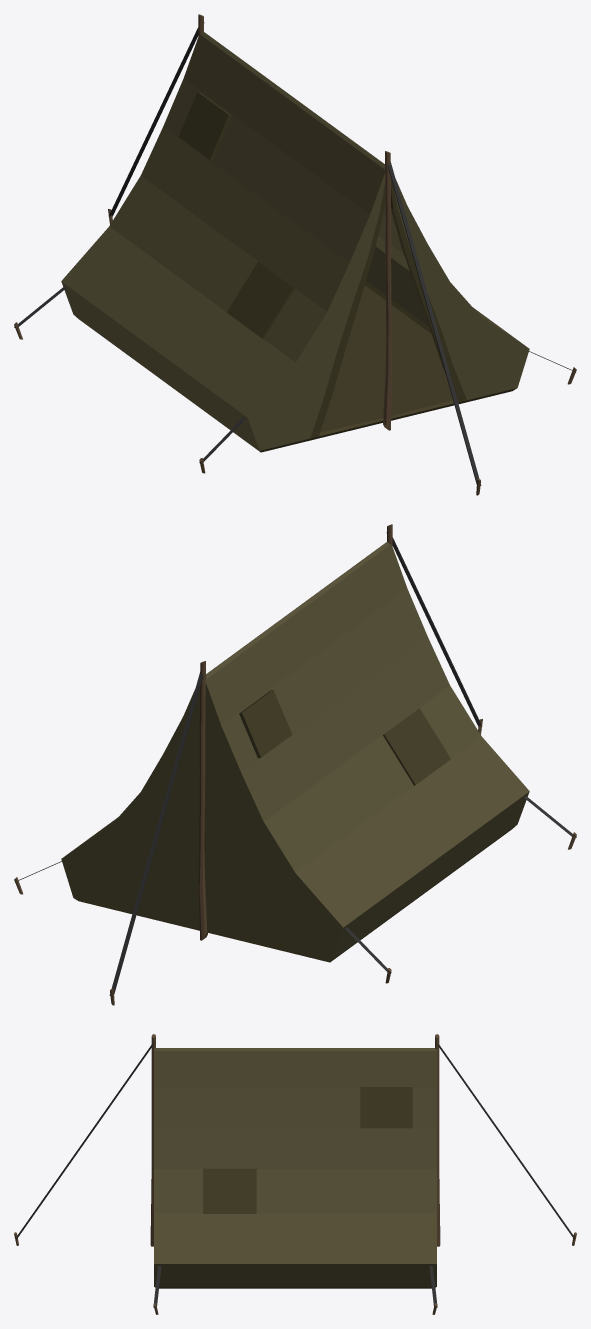
The model's file is Tent.fbx.
3 views of the same model, one above another, from view 1: azimuth 30°, elevation 25°; view 2: azimuth 150°, elevation 25°; view 3: azimuth 270°, elevation 25° (orthographic). The views are drawn at different scales.
Visible parts, largest first — view 1: Tent; view 2: Tent; view 3: Tent.
Part boxes in pixels (x1,y1,x2,y2): Tent: [14, 14, 576, 495]; Tent: [14, 524, 576, 1005]; Tent: [14, 1034, 576, 1314].
Bounding box in the file's own units: 1458 × 1032 × 2487.
